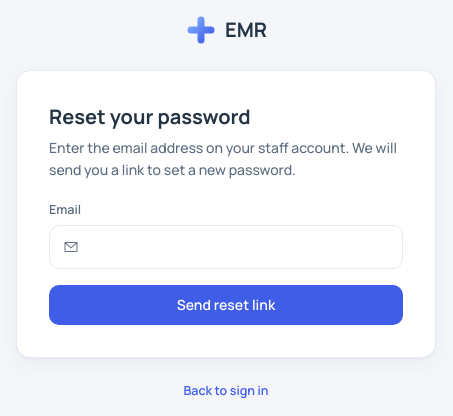
Scenario: password recovery › confirms the request without saying whether the account exists
In the field labelled "Email": (226, 247) top-left (49, 225), bottom-right (403, 269), type "someone@example.test"
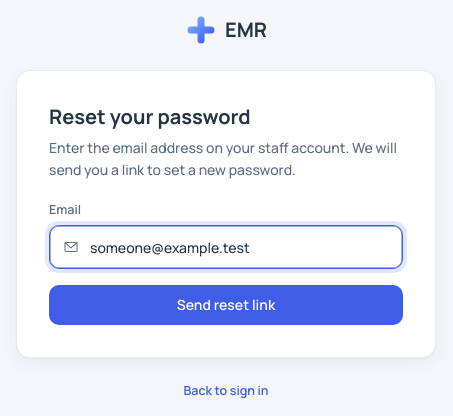
Click the button "Send reset link": (226, 305) top-left (49, 285), bottom-right (403, 325)
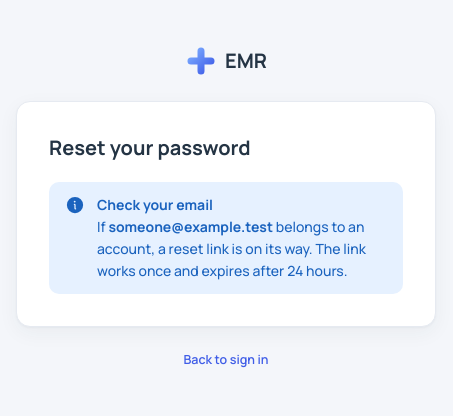
Check: the text "Check your email" is shown, box top-left (97, 195), bottom-right (213, 214)
Check: the message shows "If someone@example.test belongs to an account, a reset link is on its way.", box top-left (49, 182), bottom-right (403, 294)
